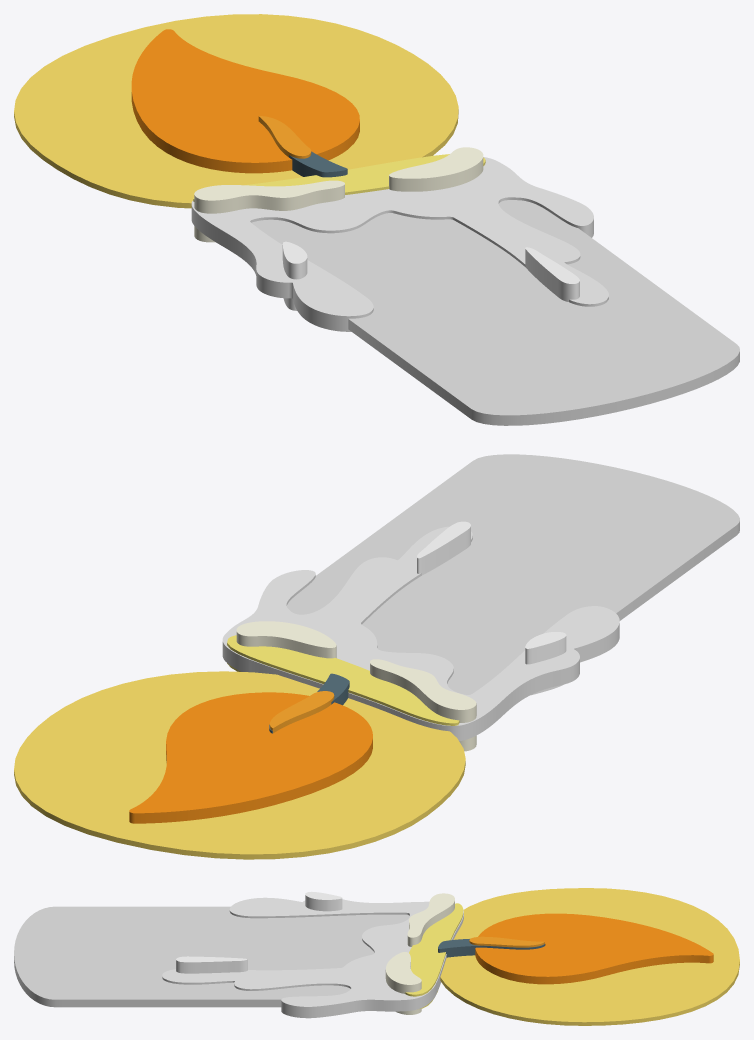
The model's file is emoji_u1f56f.glb.
3 renders of one model, top to bottom at view 1: azimuth 30°, elevation 25°; view 2: azimuth 150°, elevation 25°; view 3: azimuth 270°, elevation 25°, orthographic. The views are drawn at different scales.
Parts seen in each view (by area): view 1: emoji_u1f56f; view 2: emoji_u1f56f; view 3: emoji_u1f56f.
Boxes of the visible parts, bbox=[...] form: emoji_u1f56f: bbox=[14, 14, 739, 425]; emoji_u1f56f: bbox=[14, 454, 739, 859]; emoji_u1f56f: bbox=[14, 888, 739, 1025].
Bounding box in the file's own units: 0.0153 × 0.0018 × 0.035.
